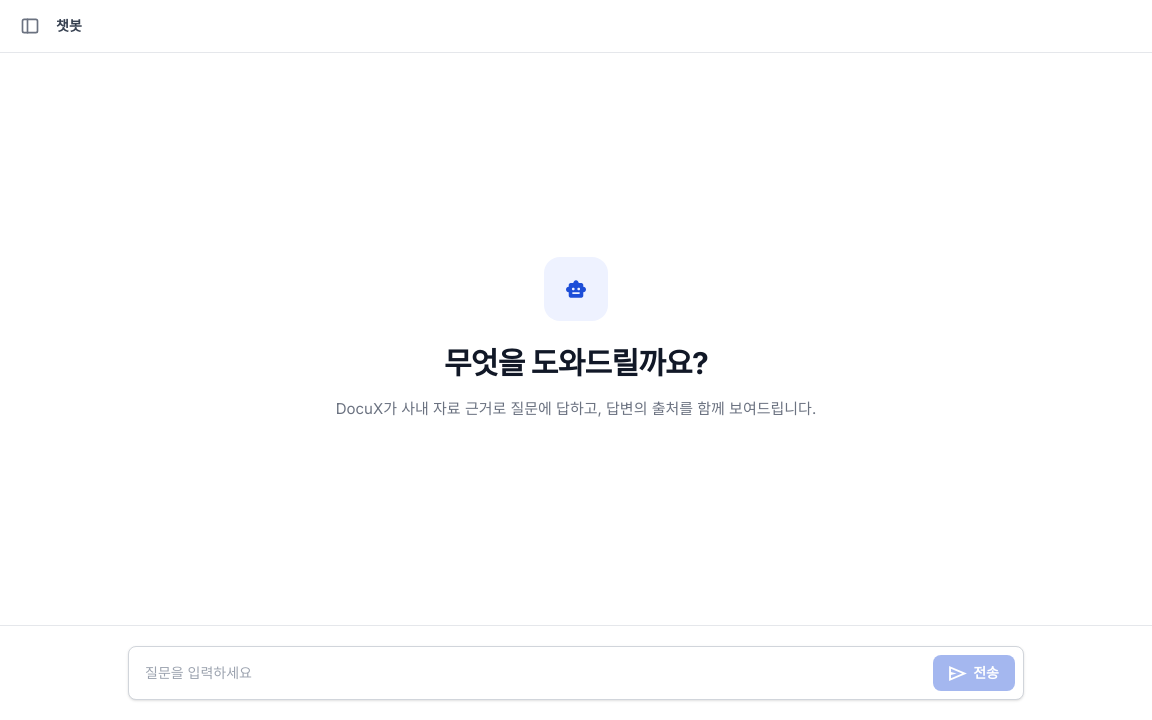
Test: ChatPage › 스트림 에러 시 alert로 에러 메시지를 보여준다(토큰 미노출)
Type "질문" into the field labelled "질문" at (535, 673), box [145, 663, 925, 683]
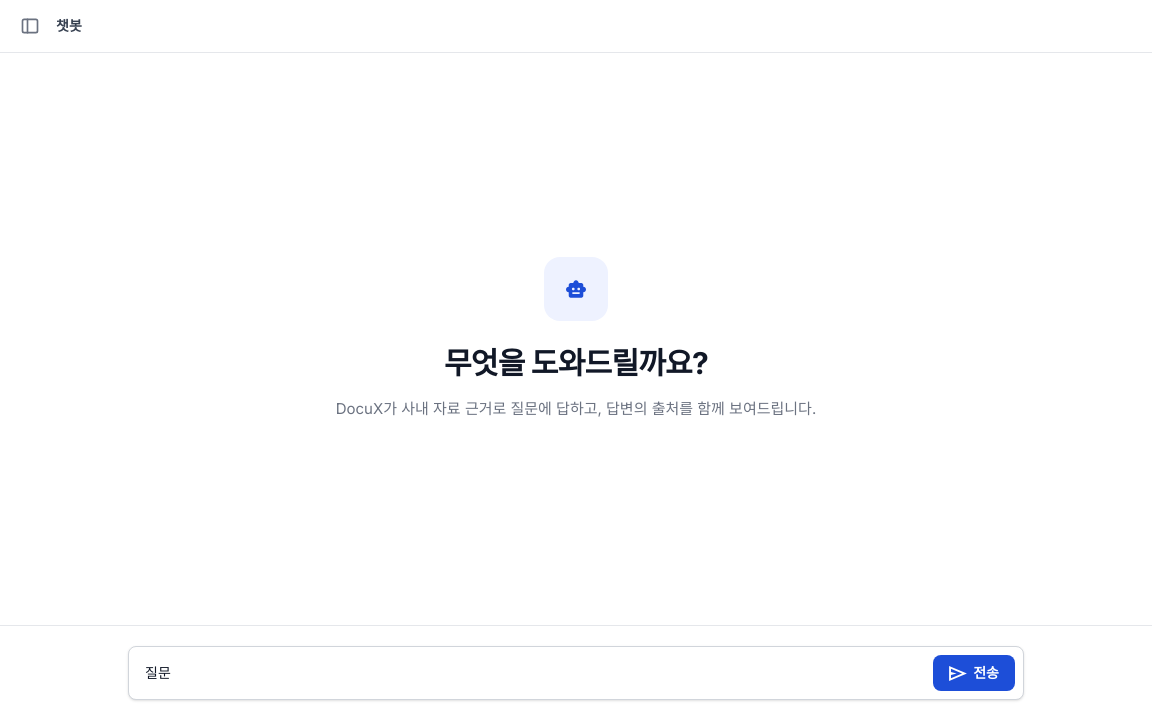
Click the button "전송" at (974, 673), box [933, 655, 1015, 691]
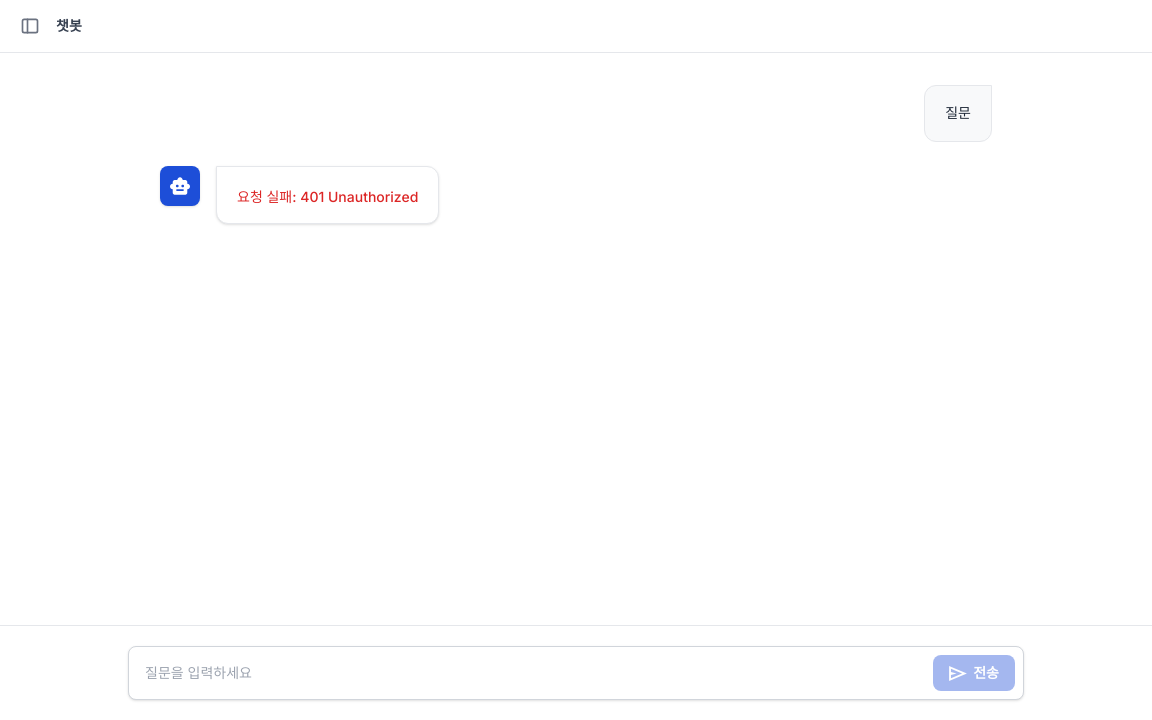
Now the message shows "401", box [237, 188, 418, 205]
